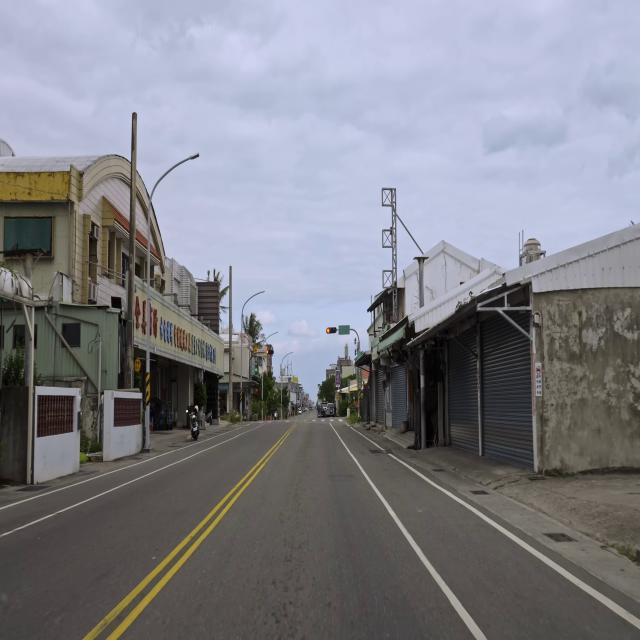red light: (326, 326, 337, 334), (266, 349, 274, 354)
